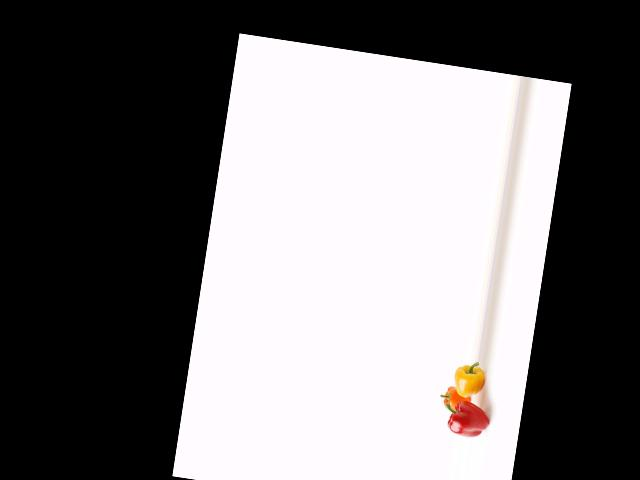bell_pepper: (437, 396, 496, 441)
